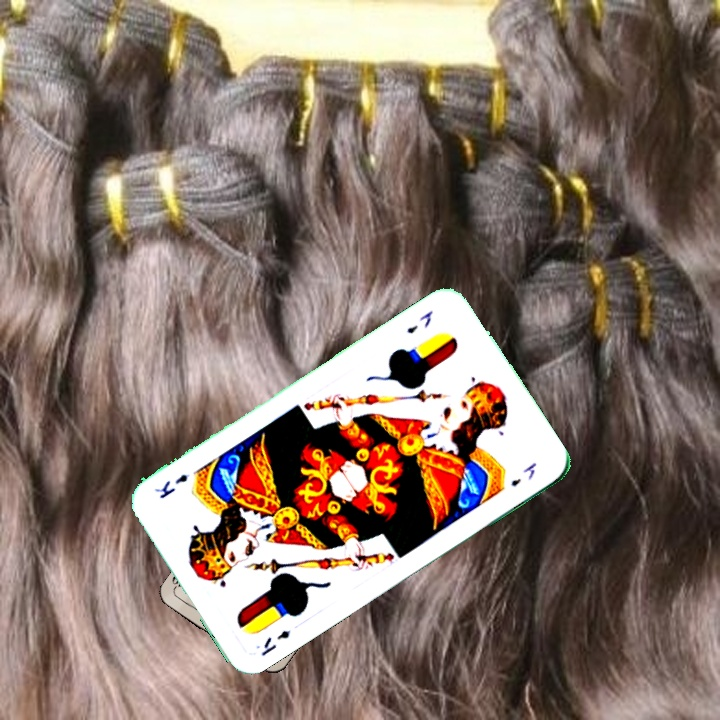EK: (257, 626, 293, 659), (402, 306, 436, 337)
